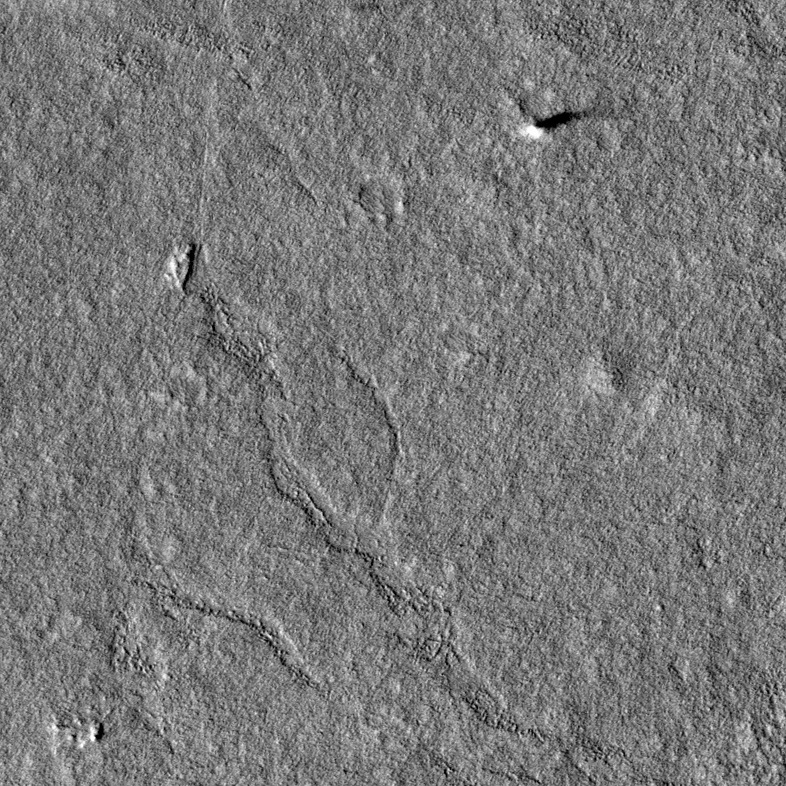dust_devil: (521, 106, 592, 141)
